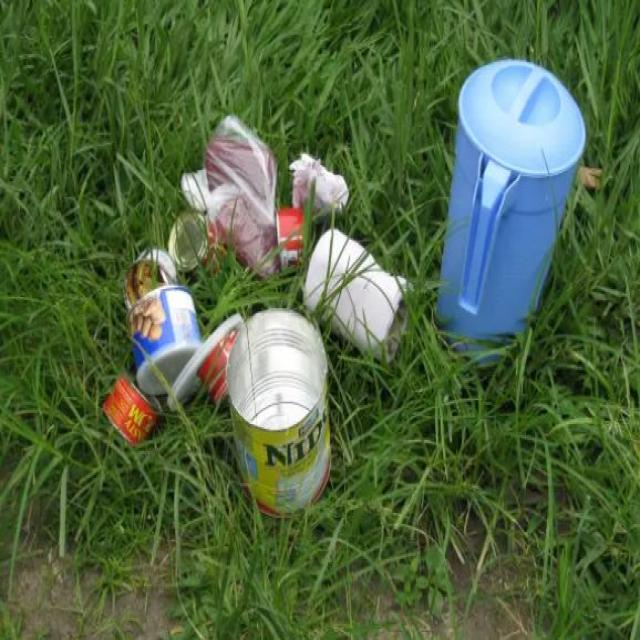dry: (434, 53, 588, 370), (225, 303, 334, 527), (202, 98, 279, 278), (100, 368, 164, 452), (290, 152, 350, 222)
